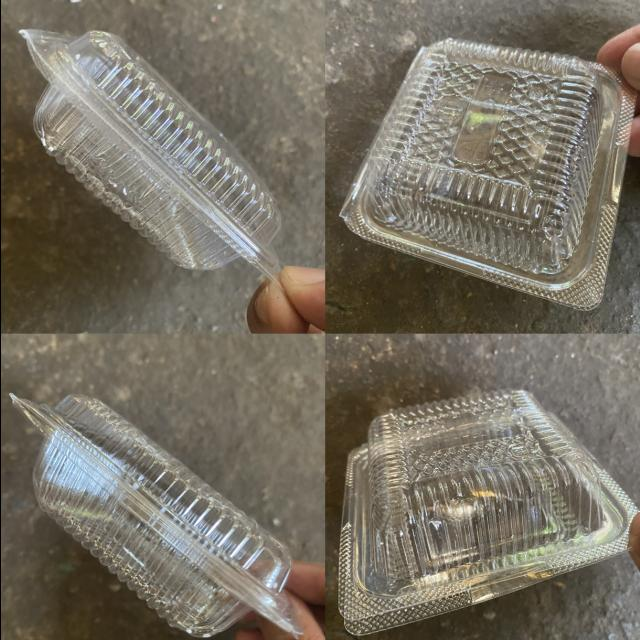plastik: (340, 39, 632, 310), (337, 390, 636, 635), (11, 395, 301, 637), (20, 31, 280, 277)
